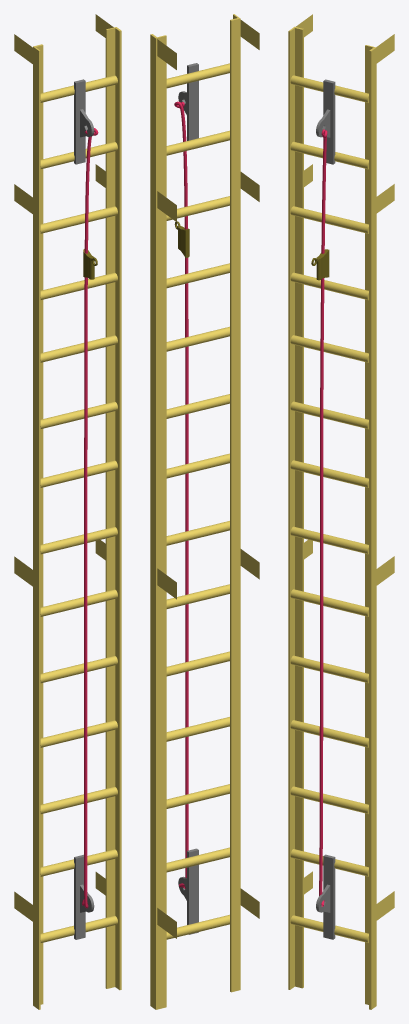
The model's file is Linea de vida vertical.fbx.
The picture shows the model from 3 angles, left to right: view 1: azimuth 30°, elevation 25°; view 2: azimuth 210°, elevation 25°; view 3: azimuth 330°, elevation 25°; orthographic projection.
Parts seen in each view (by area): view 1: Cube.001, NurbsPath, Plane.001, Plane, Cube.002; view 2: Cube.001, NurbsPath, Plane, Plane.001, Cube.002; view 3: Cube.001, NurbsPath, Plane, Plane.001, Cube.002.
Boxes of the visible parts, bbox=[...] form: Cube.001: bbox=[14, 14, 121, 1009]; NurbsPath: bbox=[82, 128, 98, 908]; Plane.001: bbox=[74, 79, 94, 164]; Plane: bbox=[74, 854, 94, 939]; Cube.002: bbox=[83, 249, 97, 279]; Cube.001: bbox=[150, 14, 259, 1009]; NurbsPath: bbox=[174, 101, 188, 888]; Plane: bbox=[178, 848, 198, 934]; Plane.001: bbox=[178, 63, 198, 140]; Cube.002: bbox=[174, 221, 189, 257]; Cube.001: bbox=[288, 14, 394, 1009]; NurbsPath: bbox=[319, 129, 327, 906]; Plane: bbox=[316, 854, 335, 939]; Plane.001: bbox=[316, 79, 335, 164]; Cube.002: bbox=[311, 249, 329, 280].
Bounding box in the file's own units: 226 × 2493 × 197.
